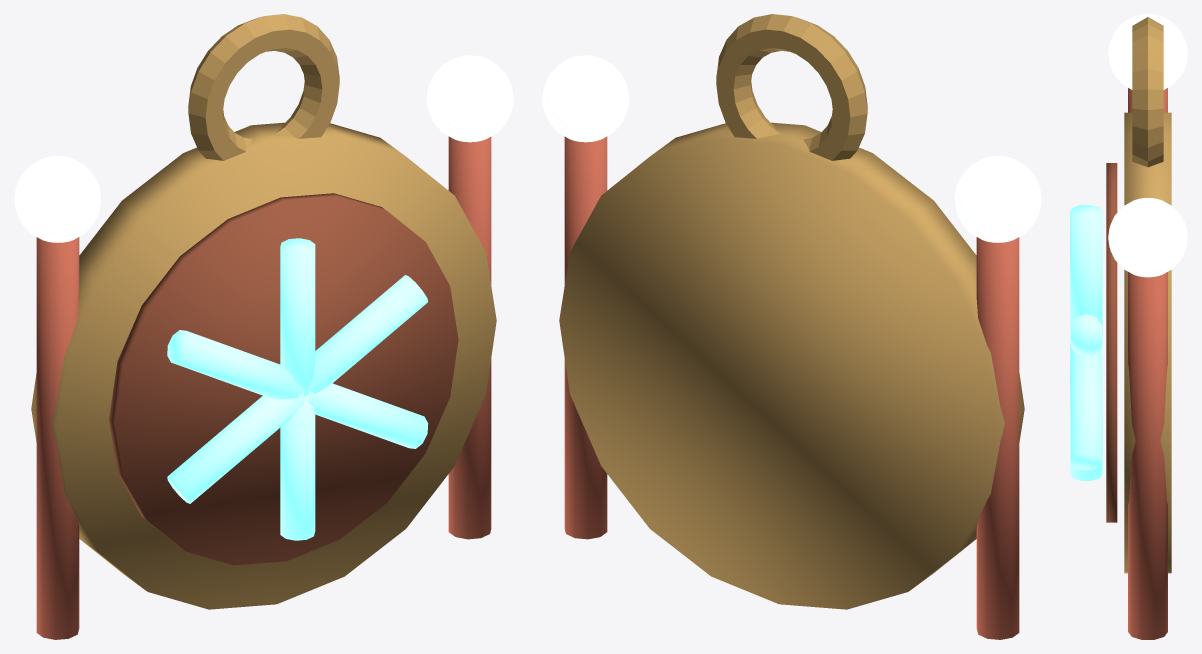
File: relic-coralOath.glb
The picture shows the model from 3 angles, left to right: view 1: azimuth 30°, elevation 25°; view 2: azimuth 150°, elevation 25°; view 3: azimuth 270°, elevation 25°; orthographic projection. The views are drawn at different scales.
Parts seen in each view (by area): view 1: relic-coralOath / Brass | machined champagne, relic-coralOath / Copper | patinated oxblood, relic-coralOath / Glass | luminous mint, relic-coralOath / Coral | salmon, relic-coralOath / Relic | mother of pearl; view 2: relic-coralOath / Brass | machined champagne, relic-coralOath / Coral | salmon, relic-coralOath / Relic | mother of pearl; view 3: relic-coralOath / Coral | salmon, relic-coralOath / Brass | machined champagne, relic-coralOath / Glass | luminous mint, relic-coralOath / Relic | mother of pearl, relic-coralOath / Copper | patinated oxblood.
Boxes of the visible parts, x1,y1,x2,y2 form: relic-coralOath / Brass | machined champagne: (31,14,496,609); relic-coralOath / Copper | patinated oxblood: (109,193,458,565); relic-coralOath / Glass | luminous mint: (167,238,428,540); relic-coralOath / Coral | salmon: (36,136,491,639); relic-coralOath / Relic | mother of pearl: (14,55,513,242); relic-coralOath / Brass | machined champagne: (559,14,1024,609); relic-coralOath / Coral | salmon: (564,136,1019,639); relic-coralOath / Relic | mother of pearl: (542,55,1041,242); relic-coralOath / Coral | salmon: (1128,88,1167,639); relic-coralOath / Brass | machined champagne: (1124,17,1171,573); relic-coralOath / Glass | luminous mint: (1070,205,1102,480); relic-coralOath / Relic | mother of pearl: (1108,14,1187,277); relic-coralOath / Copper | patinated oxblood: (1106,163,1117,522).
Bounding box in the file's own units: 1.42 × 1.61 × 0.325.
